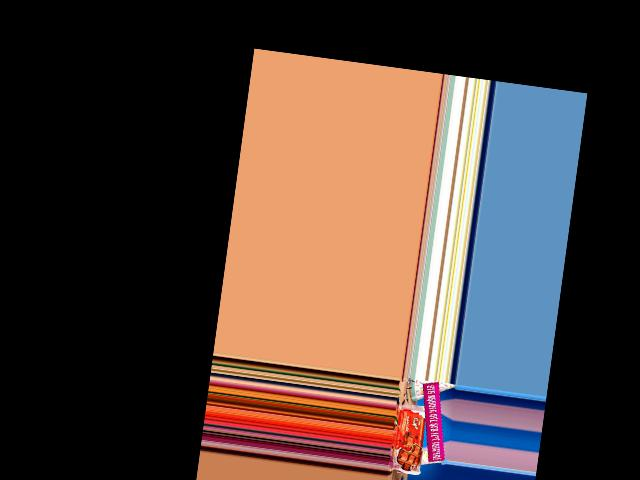chocolate: (389, 401, 430, 477)
